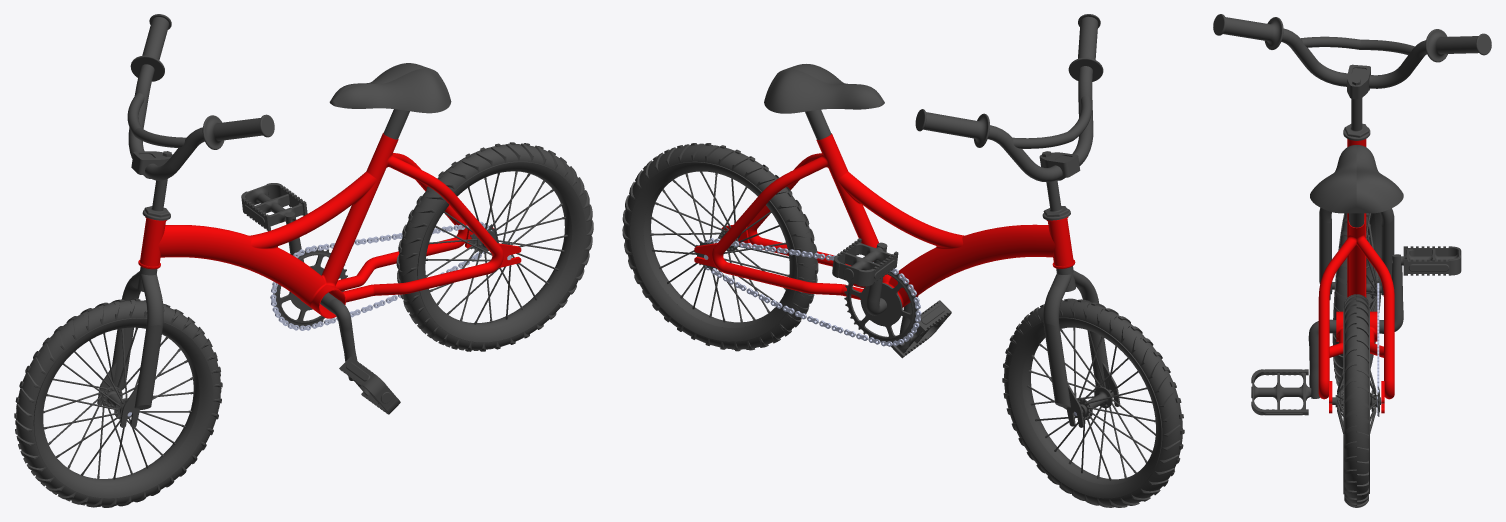
The model's file is bmx_bike_glb.glb.
The picture shows the model from 3 angles, left to right: view 1: azimuth 30°, elevation 25°; view 2: azimuth 150°, elevation 25°; view 3: azimuth 270°, elevation 25°; orthographic projection. The views are drawn at different scales.
Parts seen in each view (by area): view 1: φροντtirre-1 - Part, tirre-1 - Part, frame-1 - Part, Part1-1 - Part, frame-1 - Part 2, seat-1 - Part, pedals-1 - Part, pedal-1 - Part, pedal-2 - Part; view 2: φροντtirre-1 - Part, tirre-1 - Part, Part1-1 - Part, frame-1 - Part, frame-1 - Part 2, seat-1 - Part, pedals-1 - Part, pedal-1 - Part, pedal-2 - Part; view 3: Part1-1 - Part, tirre-1 - Part, frame-1 - Part, seat-1 - Part, φροντtirre-1 - Part, pedal-1 - Part, pedals-1 - Part, pedal-2 - Part.
Boxes of the visible parts, x1,y1,x2,y2 form: φροντtirre-1 - Part: [14, 298, 222, 507]; tirre-1 - Part: [396, 142, 593, 351]; frame-1 - Part: [138, 133, 521, 318]; Part1-1 - Part: [97, 14, 274, 427]; frame-1 - Part 2: [158, 225, 325, 307]; seat-1 - Part: [329, 63, 451, 139]; pedals-1 - Part: [273, 212, 357, 380]; pedal-1 - Part: [241, 183, 307, 231]; pedal-2 - Part: [339, 356, 400, 414]; φροντtirre-1 - Part: [1002, 298, 1184, 507]; tirre-1 - Part: [622, 143, 818, 351]; Part1-1 - Part: [915, 14, 1120, 427]; frame-1 - Part: [694, 133, 1075, 307]; frame-1 - Part 2: [889, 224, 1055, 306]; seat-1 - Part: [764, 64, 884, 140]; pedals-1 - Part: [844, 242, 918, 348]; pedal-1 - Part: [832, 238, 898, 286]; pedal-2 - Part: [891, 300, 951, 358]; Part1-1 - Part: [1213, 14, 1491, 299]; tirre-1 - Part: [1332, 294, 1380, 507]; frame-1 - Part: [1318, 139, 1394, 413]; seat-1 - Part: [1310, 145, 1403, 227]; φροντtirre-1 - Part: [1332, 212, 1381, 390]; pedal-1 - Part: [1401, 246, 1461, 275]; pedals-1 - Part: [1308, 254, 1403, 398]; pedal-2 - Part: [1251, 369, 1311, 415].
Size of the model in its own units: 1.15 by 0.8172 by 0.51.
